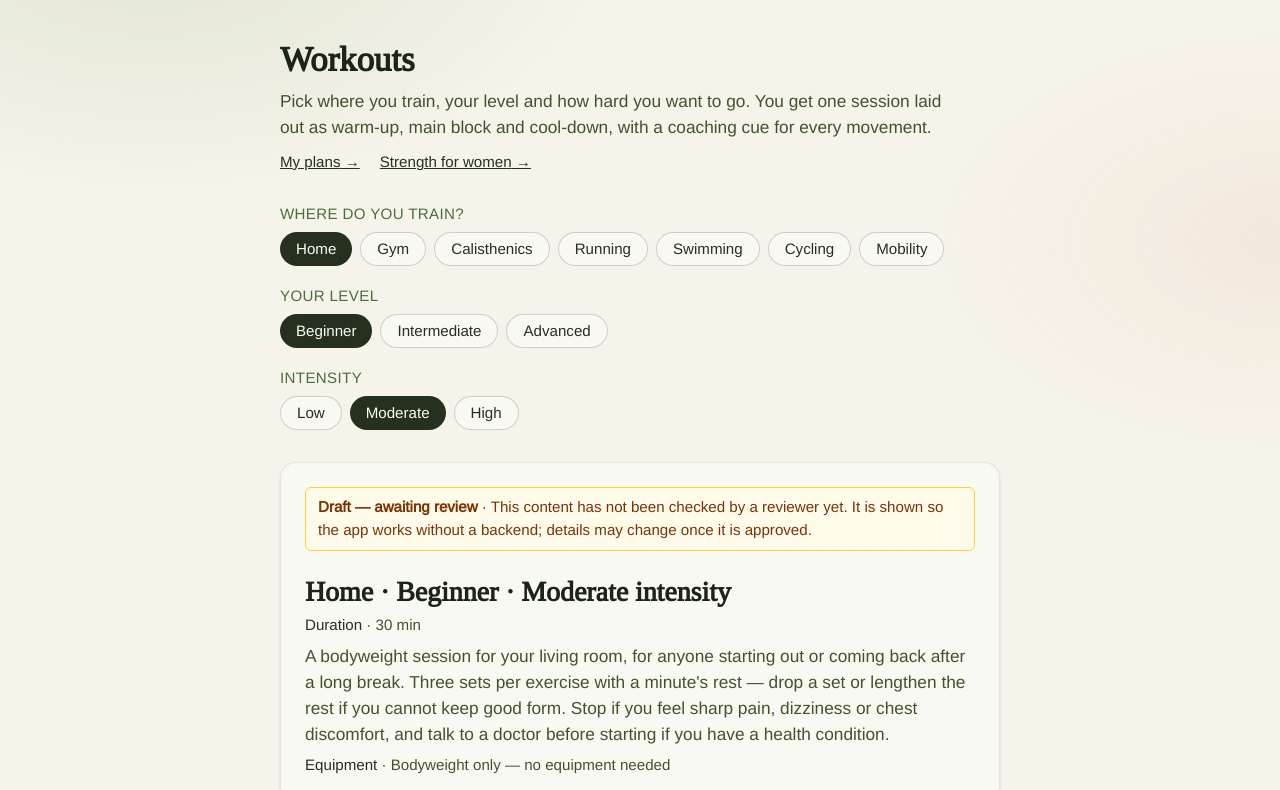
Test: <WorkoutsPage> with the bundled source › changes the figures and the duration when intensity goes to high, and writes the URL
Step 1. Click the radio button labelled "High" → (486, 413), box [454,396,519,430]
(page scrolled)
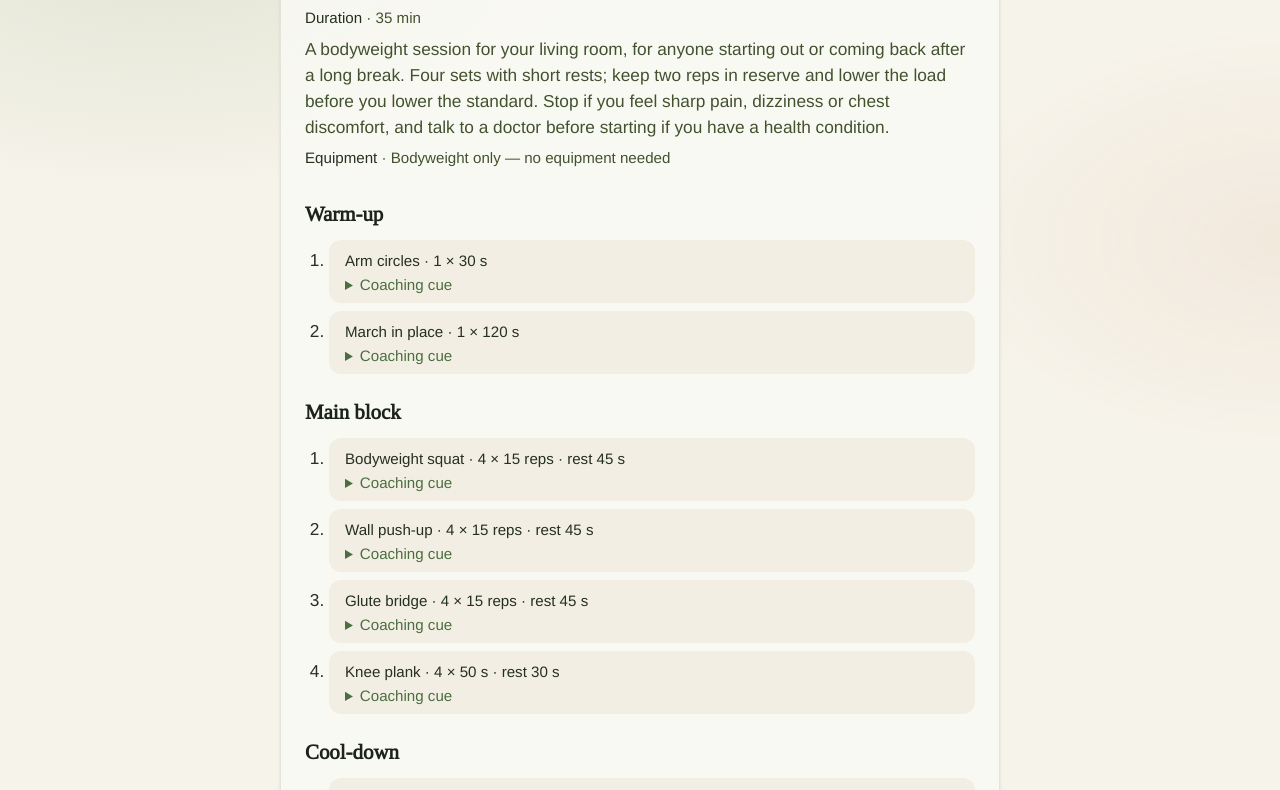
Now the text with test id "session-duration" no longer shows "30 min"
